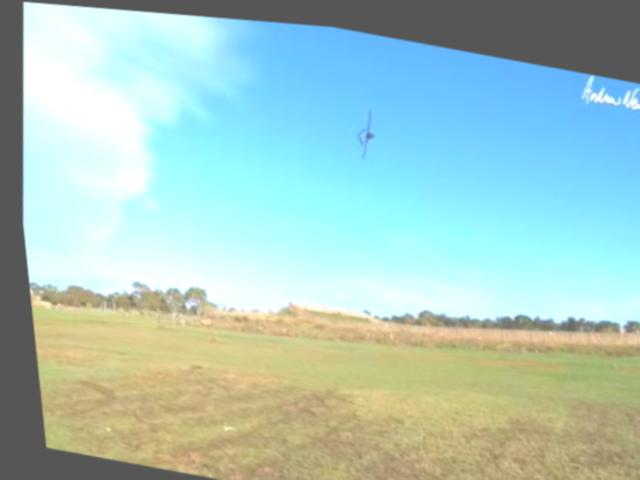uav: (342, 96, 388, 160)
